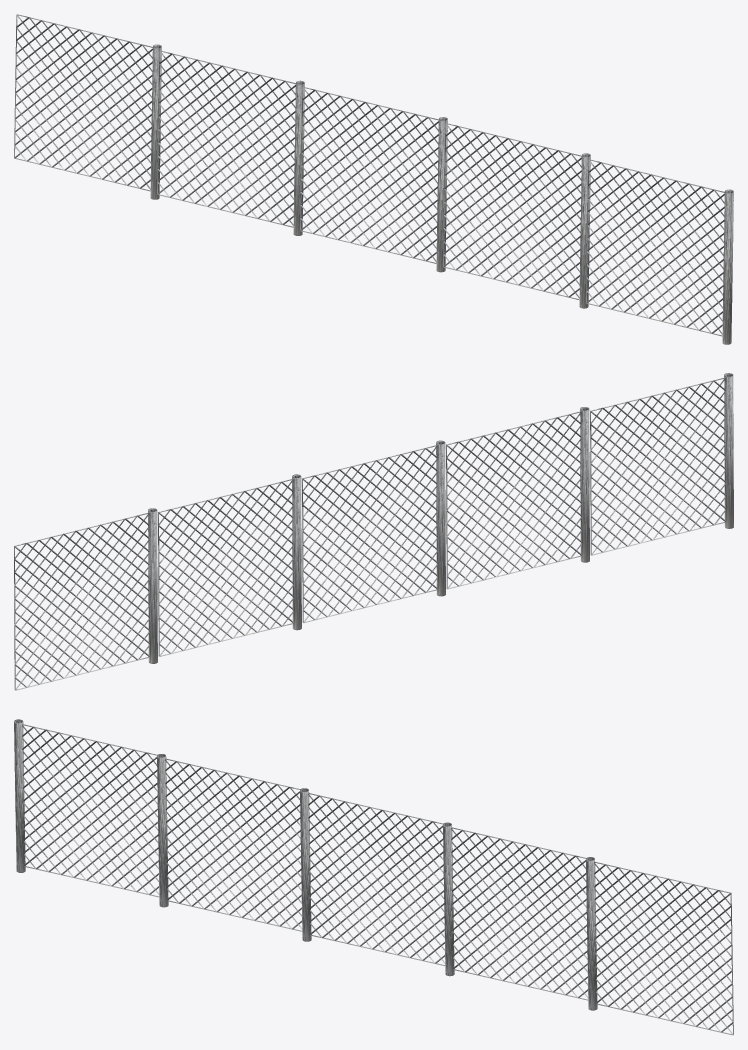
File: fence5.obj
The picture shows the model from 3 angles, top to bottom: view 1: azimuth 90°, elevation 25°; view 2: azimuth 150°, elevation 25°; view 3: azimuth 270°, elevation 25°; orthographic projection.
Parts seen in each view (by area): view 1: Plane.003_Plane.005; view 2: Plane.003_Plane.005; view 3: Plane.003_Plane.005.
Part boxes in pixels (x1,y1,x2,y2): Plane.003_Plane.005: (14, 14, 733, 344); Plane.003_Plane.005: (14, 373, 733, 690); Plane.003_Plane.005: (14, 719, 733, 1035).
Size of the model in its own units: 14.71 by 5.97 by 25.22.
Materials: 1 (1 with a texture image).
